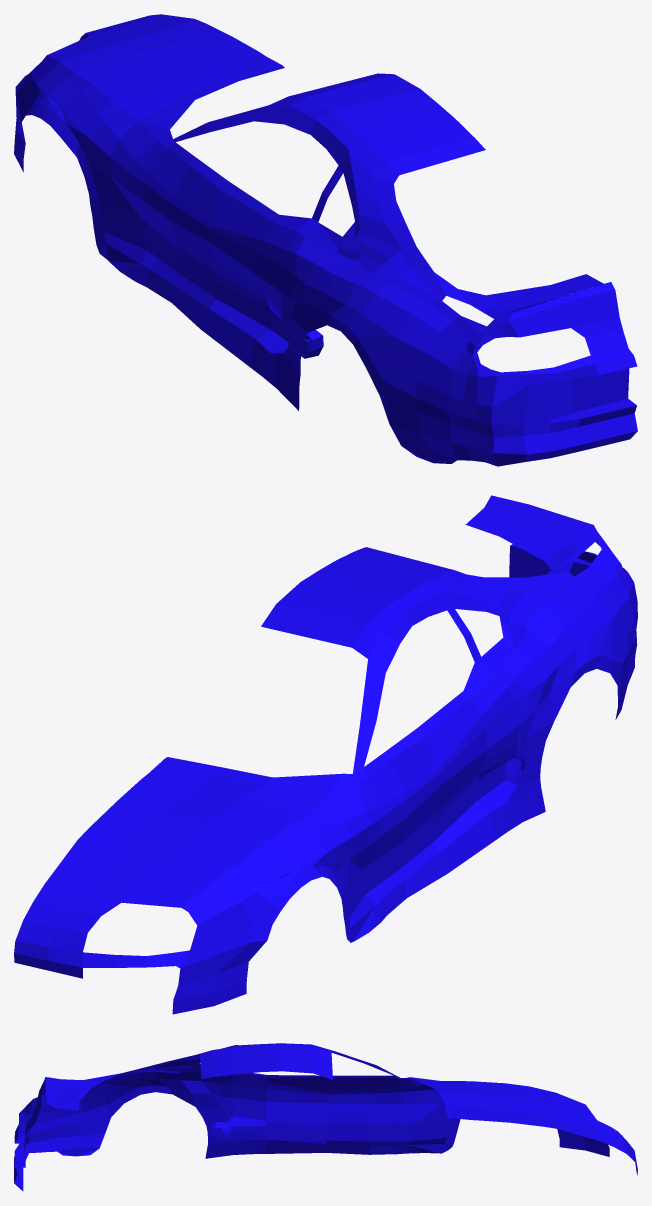
File: SupraModel.glb
The picture shows the model from 3 angles, top to bottom: view 1: azimuth 30°, elevation 25°; view 2: azimuth 150°, elevation 25°; view 3: azimuth 270°, elevation 25°; orthographic projection. The views are drawn at different scales.
Visible parts, largest first — view 1: Plane; view 2: Plane; view 3: Plane.
Part boxes in pixels (x1=…): Plane: x1=14, y1=14, x2=637, y2=466; Plane: x1=14, y1=495, x2=637, y2=1014; Plane: x1=14, y1=1043, x2=637, y2=1191.
Bounding box in the file's own units: 0.9885 × 1.15 × 4.56.
